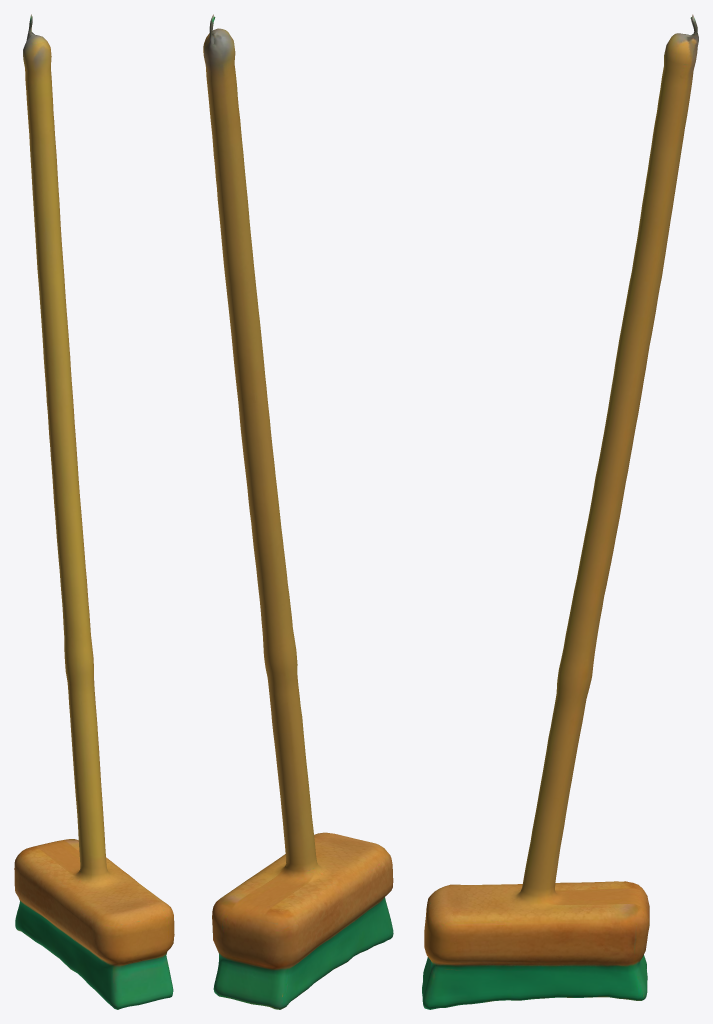
File: deck_brush.fbx
The picture shows the model from 3 angles, left to right: view 1: azimuth 30°, elevation 25°; view 2: azimuth 150°, elevation 25°; view 3: azimuth 270°, elevation 25°; orthographic projection. The views are drawn at different scales.
Visible parts, largest first — view 1: tripo_node_49a113ee-c8e4-427d-b2b4-9d2c30566ee5; view 2: tripo_node_49a113ee-c8e4-427d-b2b4-9d2c30566ee5; view 3: tripo_node_49a113ee-c8e4-427d-b2b4-9d2c30566ee5.
Boxes of the visible parts, <box> form: tripo_node_49a113ee-c8e4-427d-b2b4-9d2c30566ee5: <box>14,14,174,1009</box>; tripo_node_49a113ee-c8e4-427d-b2b4-9d2c30566ee5: <box>203,14,393,1009</box>; tripo_node_49a113ee-c8e4-427d-b2b4-9d2c30566ee5: <box>422,14,698,1009</box>.
Bounding box in the file's own units: 12.29 × 138 × 35.16.
1 material, 1 textured.
